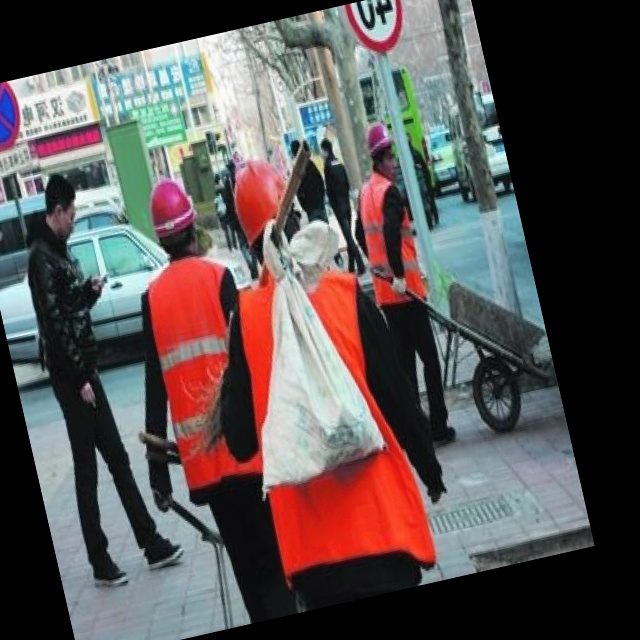Con_Chaleco: (138, 251, 272, 492)
